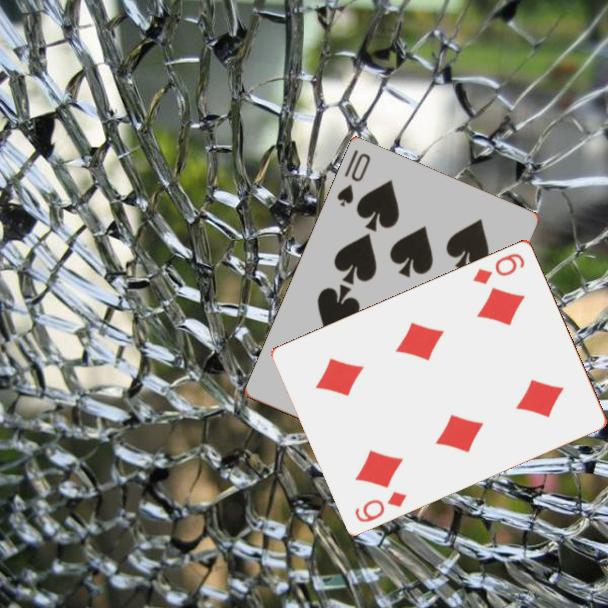d06: (469, 249, 528, 287), (351, 487, 410, 525)
s10: (333, 146, 374, 210)
